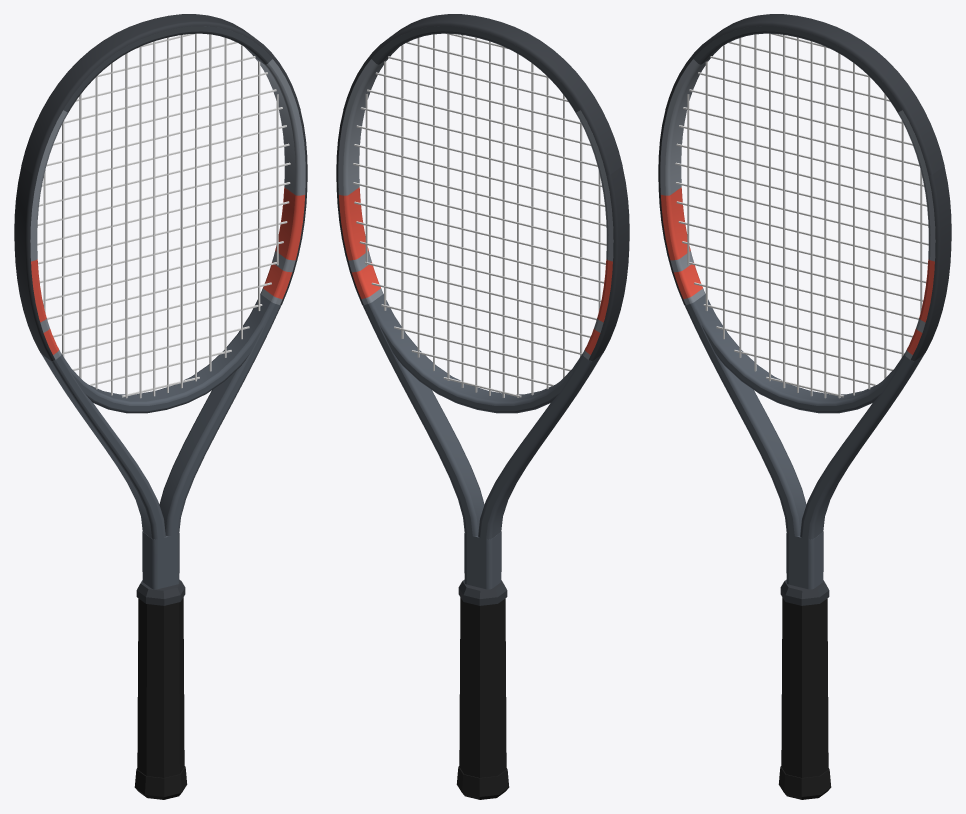
File: babolat-pure-strike-98.glb
3 views of the same model, side by side, from view 1: azimuth 30°, elevation 25°; view 2: azimuth 150°, elevation 25°; view 3: azimuth 330°, elevation 25° (orthographic).
Visible parts, largest first — view 1: frame, strings_mains, strings_crosses, grip, bumper, grommets, butt_cap, collar; view 2: frame, strings_mains, strings_crosses, grip, bumper, grommets, butt_cap, collar; view 3: frame, strings_mains, strings_crosses, grip, bumper, grommets, butt_cap, collar.
Boxes of the visible parts, box(x1,y1,x2,y2) form: frame: box(30, 26, 305, 589); strings_mains: box(43, 33, 278, 398); strings_crosses: box(37, 34, 290, 397); grip: box(137, 597, 184, 777); bumper: box(21, 14, 300, 175); grommets: box(14, 110, 307, 360); butt_cap: box(134, 766, 187, 799); collar: box(136, 579, 185, 605); frame: box(338, 26, 613, 589); strings_mains: box(365, 34, 600, 397); strings_crosses: box(353, 33, 606, 397); grip: box(459, 597, 506, 777); bumper: box(343, 14, 622, 175); grommets: box(336, 110, 629, 360); butt_cap: box(456, 766, 509, 799); collar: box(458, 579, 507, 605); frame: box(660, 26, 935, 589); strings_mains: box(687, 33, 922, 398); strings_crosses: box(675, 34, 928, 397); grip: box(781, 597, 828, 777); bumper: box(665, 14, 944, 175); grommets: box(658, 110, 951, 360); butt_cap: box(778, 766, 831, 799); collar: box(780, 579, 829, 605).
Size of the model in its own units: 0.2634 by 0.6861 by 0.0396.
